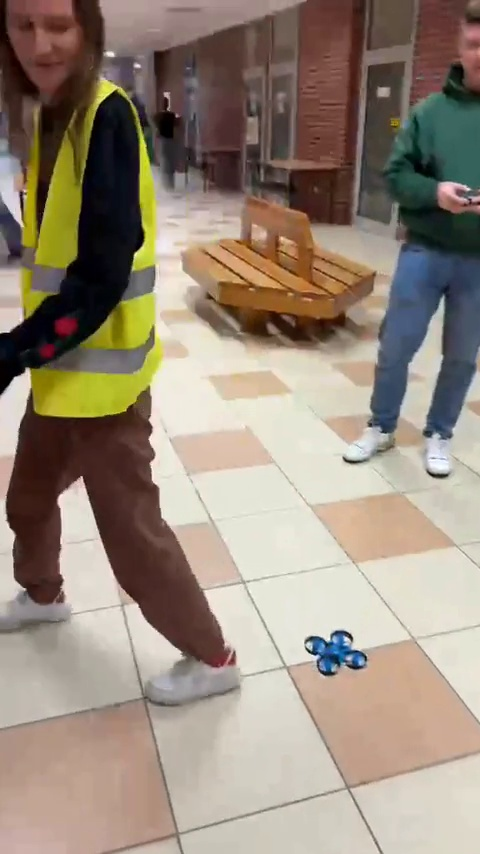drone: (301, 626, 361, 673)
no vest: (366, 2, 480, 475), (148, 93, 191, 189)
vest: (0, 1, 242, 709)
